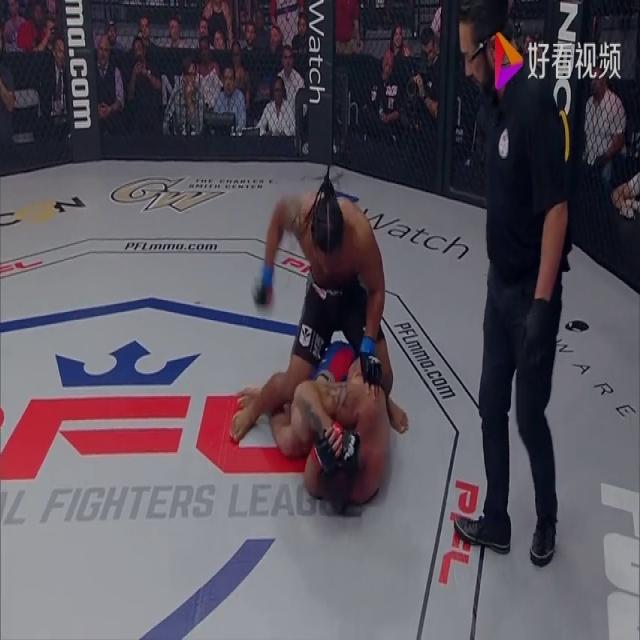fight: (230, 181, 410, 515)
non-fight: (453, 0, 565, 566)
